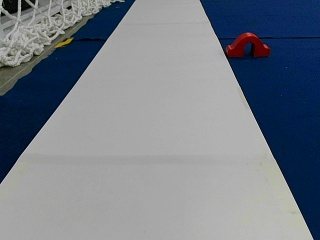bridge: (228, 32, 270, 56)
